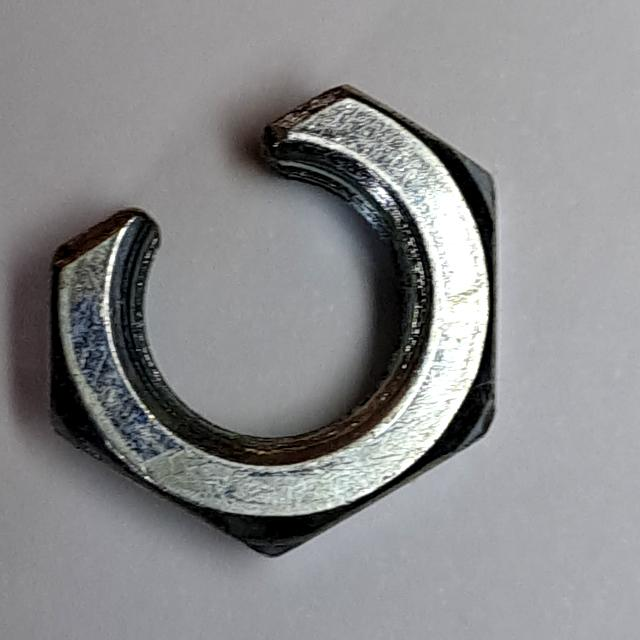Fracture: (36, 70, 513, 575)
